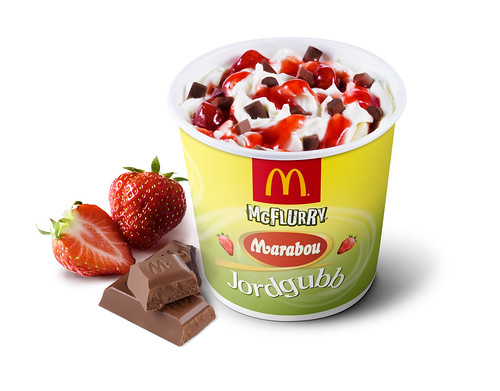mcdonalds: (261, 164, 312, 203)
